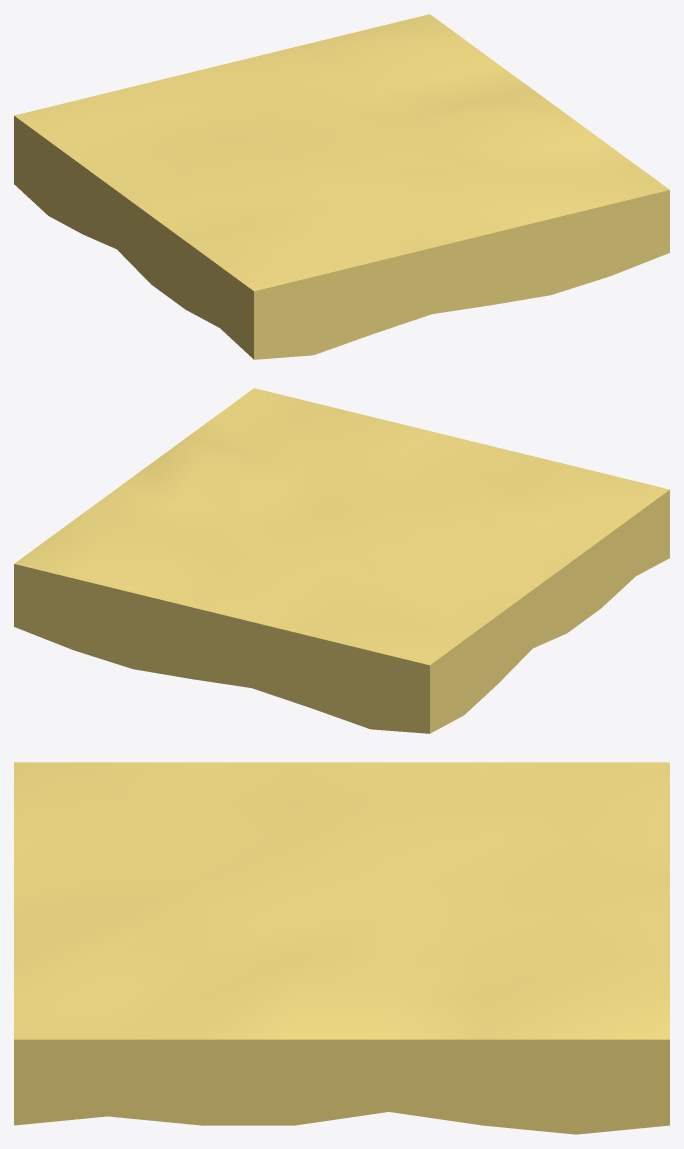
Rendered from sand3(1).fbx.
The picture shows the model from 3 angles, top to bottom: view 1: azimuth 30°, elevation 25°; view 2: azimuth 150°, elevation 25°; view 3: azimuth 270°, elevation 25°; orthographic projection. The views are drawn at different scales.
Visible parts, largest first — view 1: 立方体; view 2: 立方体; view 3: 立方体.
Boxes of the visible parts, x1=… form: 立方体: x1=14, y1=14, x2=669, y2=359; 立方体: x1=14, y1=388, x2=669, y2=733; 立方体: x1=14, y1=762, x2=669, y2=1134.
Bounding box in the file's own units: 103 × 24.43 × 103.
